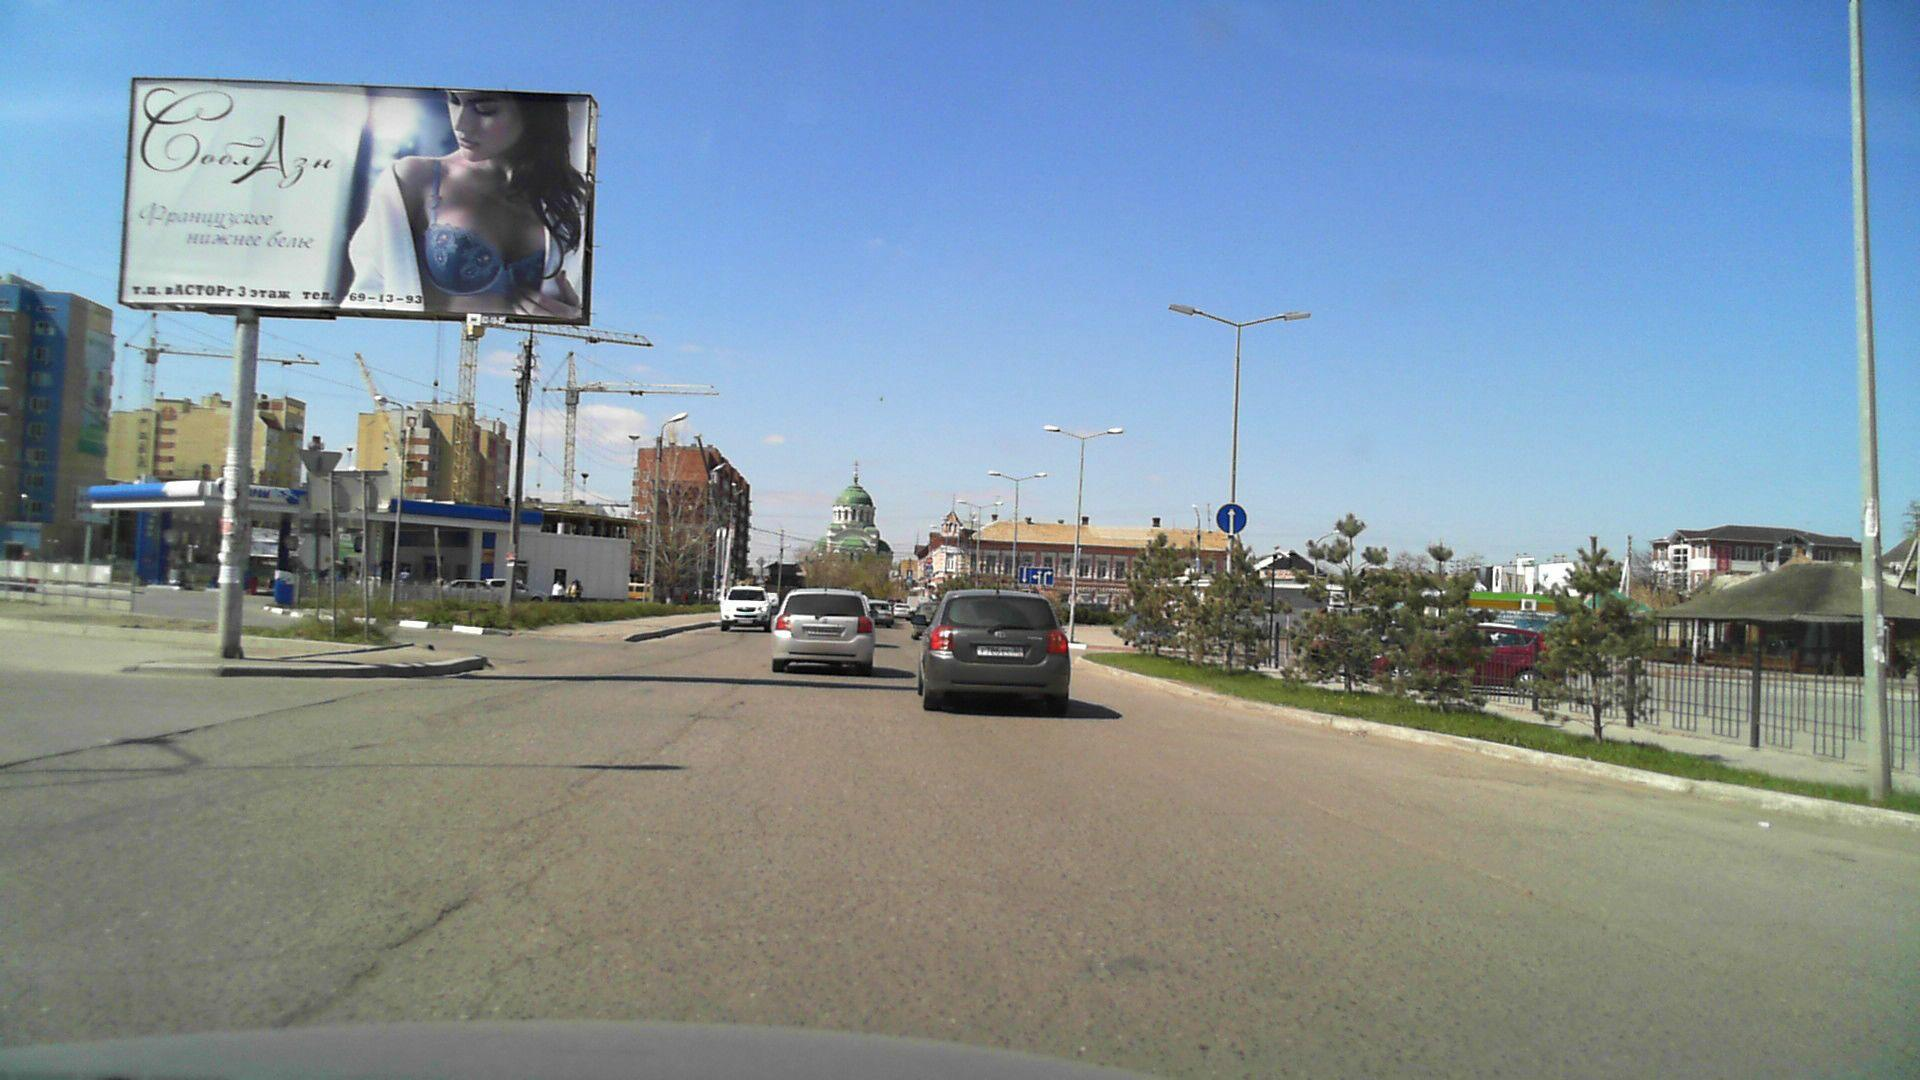4_1_1: (1215, 501, 1247, 535)
5_15_7: (1018, 567, 1054, 585)
